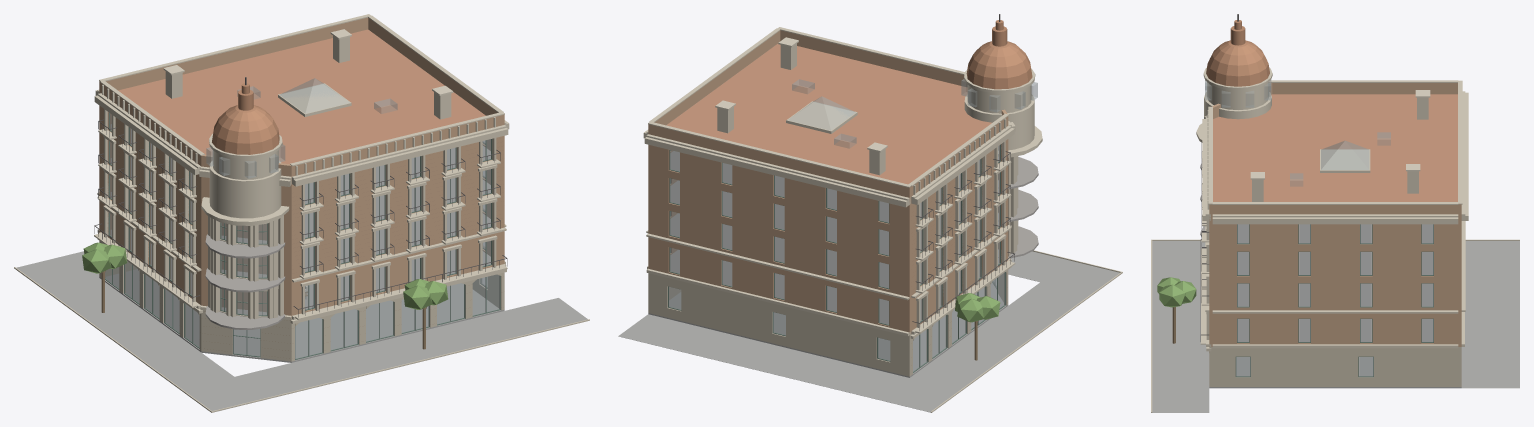
The model's file is clay-chamfer-corner-dome-block-clay-v001.glb.
The picture shows the model from 3 angles, left to right: view 1: azimuth 30°, elevation 25°; view 2: azimuth 150°, elevation 25°; view 3: azimuth 270°, elevation 25°; orthographic projection. The views are drawn at different scales.
Parts seen in each view (by area): view 1: CLAY_STONE, CLAY_WALL, CLAY_FOUNDATION, CLAY_MEMBRANE, CLAY_GLASS, CLAY_FLOOR, CLAY_TRIM, CLAY_RUSTIC, CLAY_HARDWARE, CLAY_COPPER, CLAY_PLANTING, CLAY_PALE; view 2: CLAY_WALL, CLAY_STONE, CLAY_MEMBRANE, CLAY_FOUNDATION, CLAY_RUSTIC, CLAY_GLASS, CLAY_FLOOR, CLAY_TRIM, CLAY_COPPER, CLAY_HARDWARE, CLAY_PLANTING, CLAY_PALE; view 3: CLAY_WALL, CLAY_MEMBRANE, CLAY_FOUNDATION, CLAY_STONE, CLAY_RUSTIC, CLAY_GLASS, CLAY_FLOOR, CLAY_COPPER, CLAY_TRIM, CLAY_PLANTING, CLAY_PALE, CLAY_HARDWARE.
Part boxes in pixels (x1,y1,x2,y2): CLAY_STONE: [14, 14, 589, 412]; CLAY_WALL: [99, 17, 504, 318]; CLAY_FOUNDATION: [16, 251, 587, 410]; CLAY_MEMBRANE: [118, 29, 485, 164]; CLAY_GLASS: [105, 78, 499, 358]; CLAY_FLOOR: [110, 124, 490, 329]; CLAY_TRIM: [105, 112, 500, 359]; CLAY_RUSTIC: [99, 241, 504, 361]; CLAY_HARDWARE: [94, 77, 507, 317]; CLAY_COPPER: [212, 83, 279, 154]; CLAY_PLANTING: [82, 242, 448, 309]; CLAY_PALE: [102, 29, 495, 175]; CLAY_WALL: [648, 30, 1008, 333]; CLAY_STONE: [643, 27, 1122, 412]; CLAY_MEMBRANE: [666, 43, 992, 184]; CLAY_FOUNDATION: [618, 251, 1119, 412]; CLAY_RUSTIC: [648, 270, 1008, 376]; CLAY_GLASS: [669, 79, 1037, 371]; CLAY_FLOOR: [670, 151, 1038, 324]; CLAY_TRIM: [668, 144, 1005, 372]; CLAY_COPPER: [966, 20, 1032, 89]; CLAY_HARDWARE: [912, 14, 1014, 330]; CLAY_PLANTING: [955, 293, 1000, 322]; CLAY_PALE: [715, 37, 1006, 194]; CLAY_WALL: [1209, 81, 1461, 346]; CLAY_MEMBRANE: [1213, 94, 1457, 201]; CLAY_FOUNDATION: [1152, 241, 1519, 412]; CLAY_STONE: [1151, 67, 1519, 412]; CLAY_RUSTIC: [1209, 347, 1461, 386]; CLAY_GLASS: [1205, 80, 1433, 376]; CLAY_FLOOR: [1200, 162, 1433, 341]; CLAY_COPPER: [1206, 20, 1269, 86]; CLAY_TRIM: [1235, 224, 1433, 377]; CLAY_PLANTING: [1157, 277, 1196, 307]; CLAY_PALE: [1207, 90, 1430, 209]; CLAY_HARDWARE: [1200, 14, 1238, 341].
Size of the model in its own units: 42 by 29.9 by 38.
